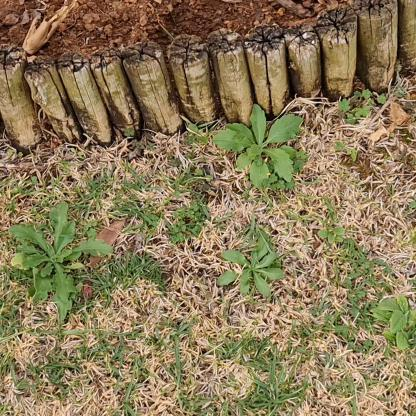Weeds: (8, 202, 113, 323), (213, 103, 304, 193), (217, 231, 286, 298), (372, 294, 415, 354), (318, 224, 345, 243)
